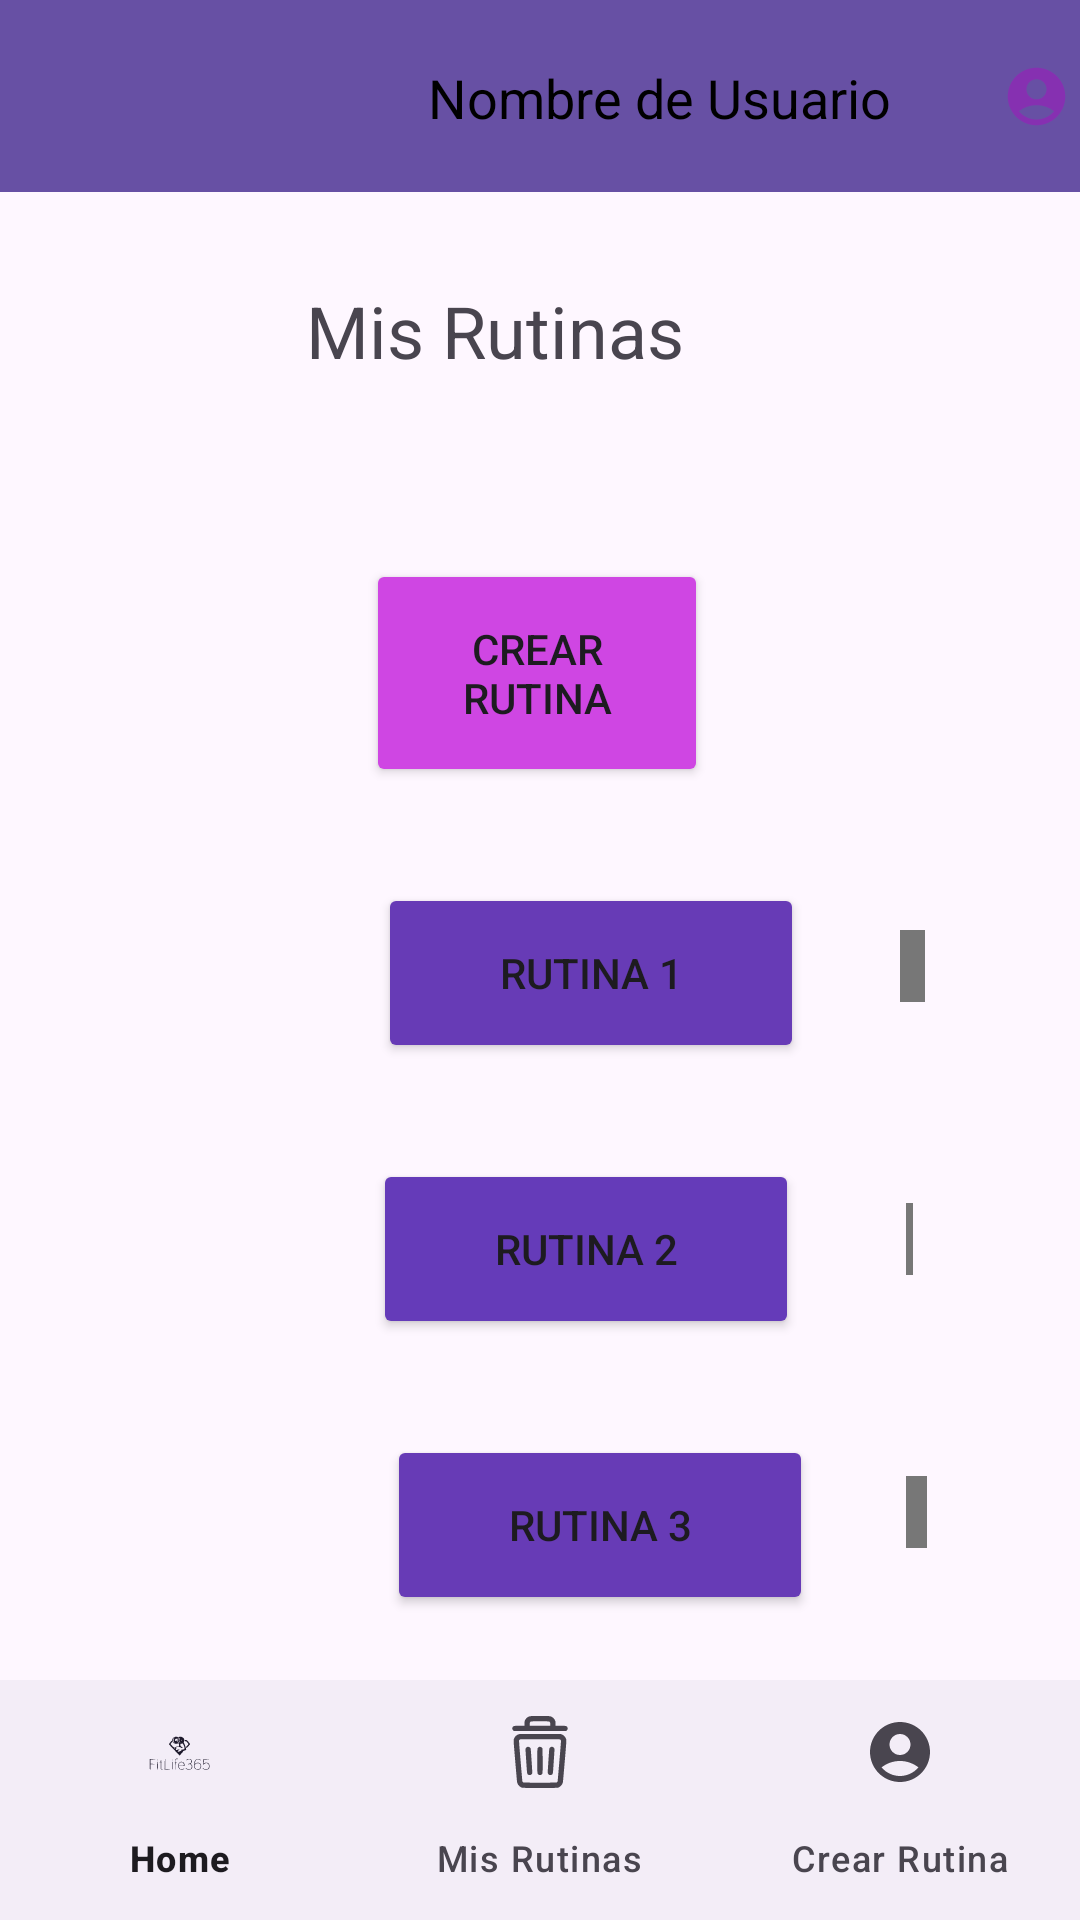

Named icons in this screenshot (1080×1920) and their centers, point (x, y):
perfil: point (1036, 96)
